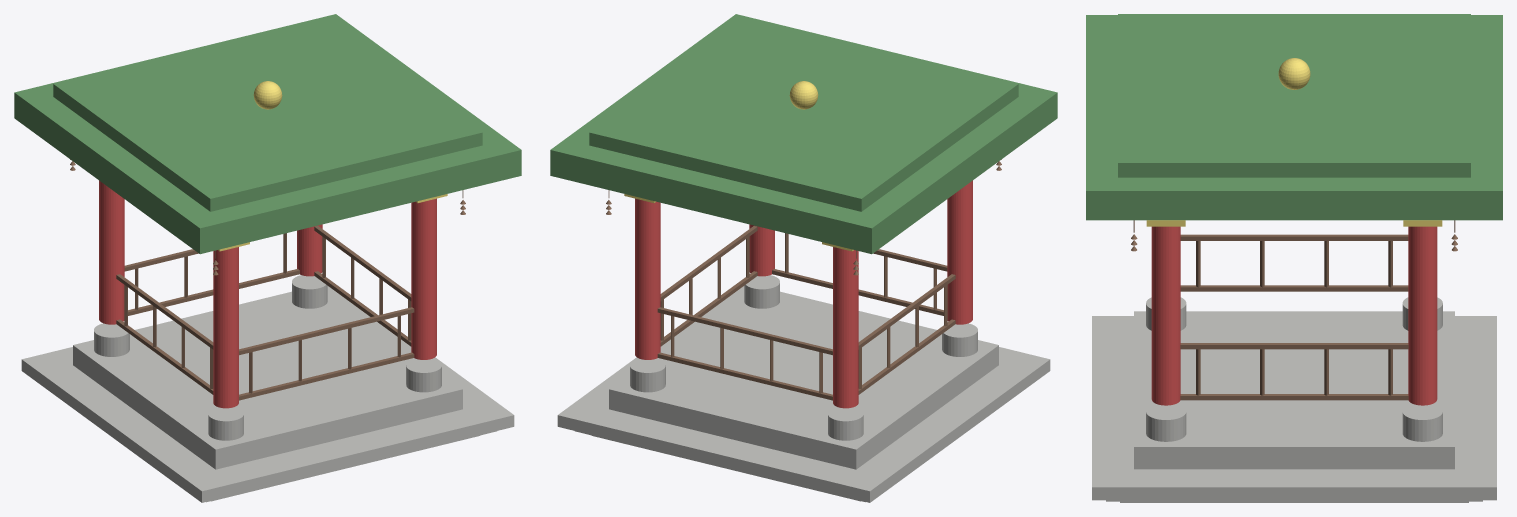
The picture shows the model from 3 angles, left to right: view 1: azimuth 30°, elevation 25°; view 2: azimuth 150°, elevation 25°; view 3: azimuth 270°, elevation 25°; orthographic projection. The views are drawn at different scales.
Visible parts, largest first — view 1: Roof_Base_T2, Stone_Platform, Roof_Base_T1, Step_1, Red_Column_1_-1, Red_Column_-1_-1, Red_Column_-1_1, Red_Column_1_1, Rail_south_1.6, Rail_south_0.9, Column_Base_1_-1, Column_Base_-1_-1 (+8 smaller); view 2: Roof_Base_T2, Stone_Platform, Roof_Base_T1, Step_1, Red_Column_1_1, Red_Column_-1_1, Red_Column_-1_-1, Red_Column_1_-1, Rail_north_1.6, Rail_north_0.9, Column_Base_1_1, Column_Base_-1_1 (+8 smaller); view 3: Roof_Base_T2, Stone_Platform, Roof_Base_T1, Step_1, Red_Column_1_-1, Red_Column_1_1, Rail_east_1.6, Rail_west_1.6, Rail_east_0.9, Rail_west_0.9, Column_Base_1_-1, Column_Base_1_1 (+3 smaller).
Part boxes in pixels (x1,y1,x2,y2): Roof_Base_T2: (53, 17, 482, 211); Stone_Platform: (73, 290, 462, 469); Roof_Base_T1: (14, 14, 521, 254); Step_1: (21, 286, 514, 502); Red_Column_1_-1: (411, 198, 436, 359); Red_Column_-1_-1: (213, 247, 238, 408); Red_Column_-1_1: (99, 180, 124, 324); Red_Column_1_1: (297, 224, 322, 276); Rail_south_1.6: (239, 307, 414, 355); Rail_south_0.9: (239, 352, 414, 400); Column_Base_1_-1: (406, 358, 441, 392); Column_Base_-1_-1: (208, 407, 243, 440); Roof_Base_T2: (589, 17, 1018, 211); Stone_Platform: (609, 290, 998, 469); Roof_Base_T1: (550, 14, 1057, 254); Step_1: (557, 286, 1050, 502); Red_Column_1_1: (635, 198, 660, 359); Red_Column_-1_1: (833, 247, 858, 408); Red_Column_-1_-1: (947, 180, 972, 324); Red_Column_1_-1: (749, 224, 774, 276); Rail_north_1.6: (657, 307, 832, 355); Rail_north_0.9: (657, 352, 832, 400); Column_Base_1_1: (630, 358, 665, 392); Column_Base_-1_1: (828, 407, 863, 440); Roof_Base_T2: (1118, 14, 1470, 177); Stone_Platform: (1134, 311, 1454, 469); Roof_Base_T1: (1086, 15, 1502, 220); Step_1: (1092, 316, 1496, 500); Red_Column_1_-1: (1151, 226, 1180, 405); Red_Column_1_1: (1408, 226, 1437, 405); Rail_east_1.6: (1180, 343, 1408, 349); Rail_west_1.6: (1180, 234, 1408, 240); Rail_east_0.9: (1180, 394, 1408, 400); Rail_west_0.9: (1180, 285, 1408, 291); Column_Base_1_-1: (1146, 404, 1186, 441); Column_Base_1_1: (1402, 404, 1442, 441).
Bounding box in the file's own units: 5.2 × 5.09 × 5.2.
